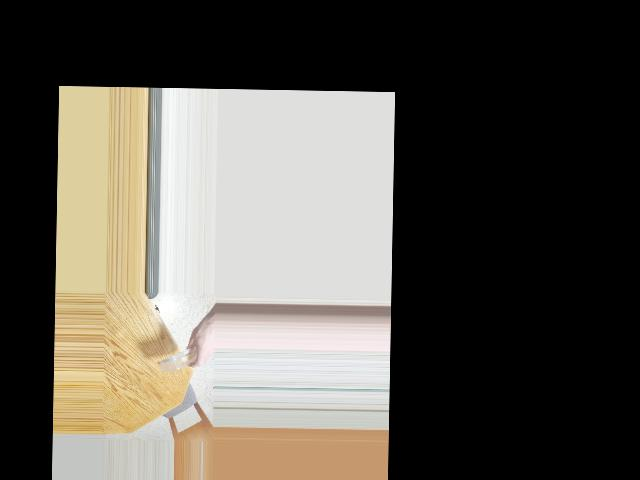cheese: (155, 347, 202, 373)
